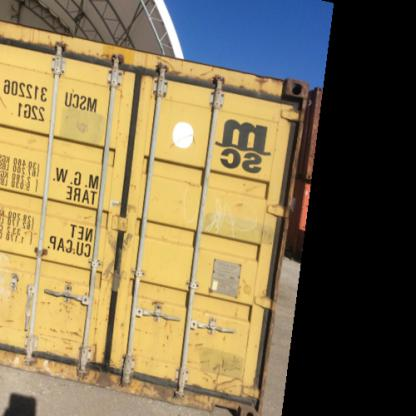Damage: (186, 340, 262, 413), (34, 320, 80, 375), (237, 70, 288, 100), (78, 38, 126, 67), (89, 344, 118, 389), (152, 52, 192, 84), (38, 289, 81, 313), (39, 29, 73, 57), (166, 127, 202, 152), (128, 162, 156, 191), (175, 172, 207, 194), (193, 62, 218, 82), (75, 206, 102, 224), (242, 175, 262, 196), (148, 294, 169, 314), (159, 326, 174, 351), (226, 196, 246, 214), (111, 78, 126, 102), (0, 309, 14, 330), (131, 325, 155, 337), (229, 301, 242, 319), (0, 89, 9, 113), (117, 315, 126, 332)
